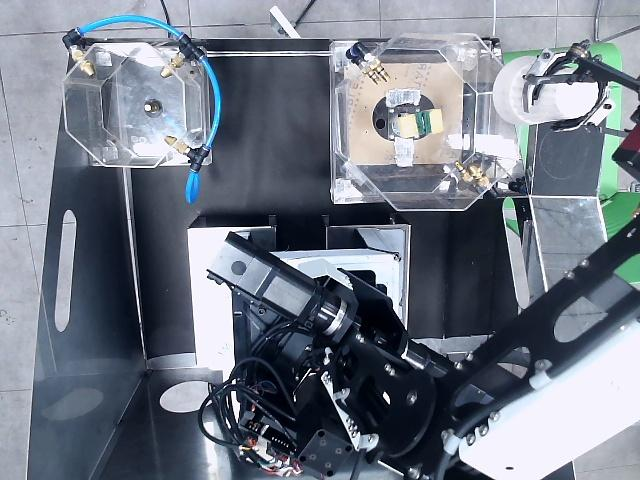cup: (493, 50, 615, 130)
